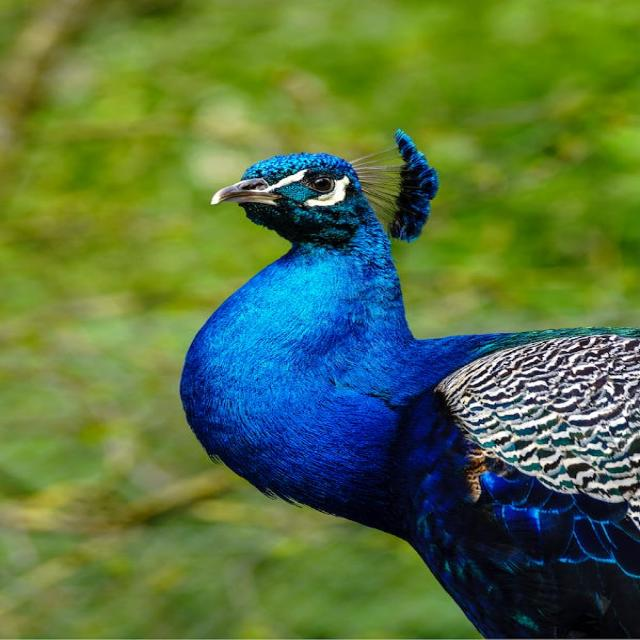peacock: (173, 128, 640, 640)
